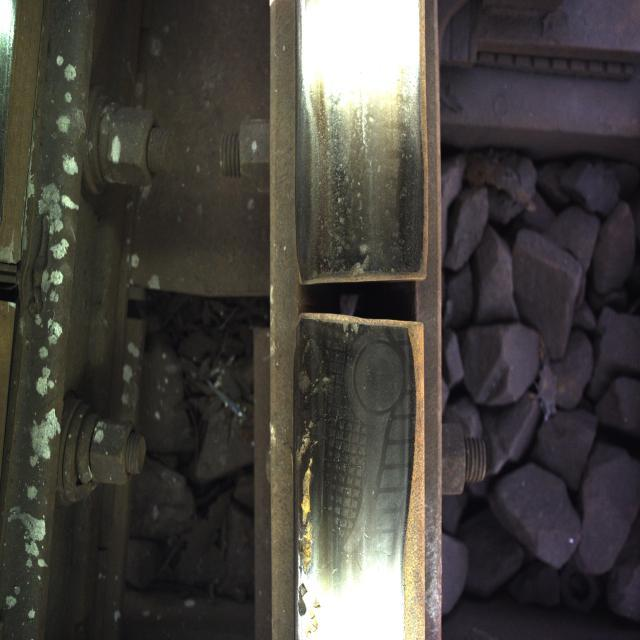spalling: (275, 211, 450, 375)
